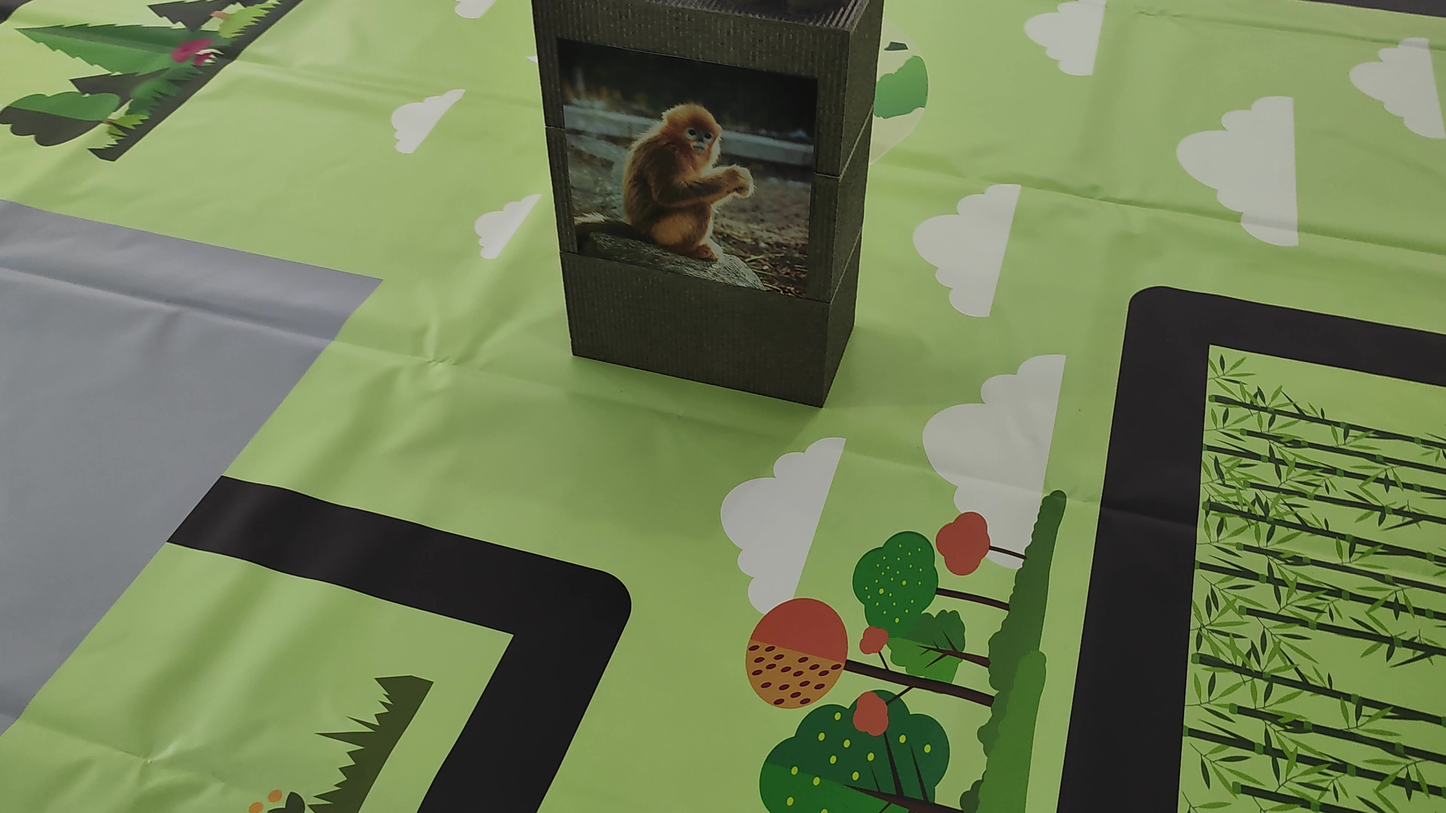monkey: (589, 57, 777, 272)
